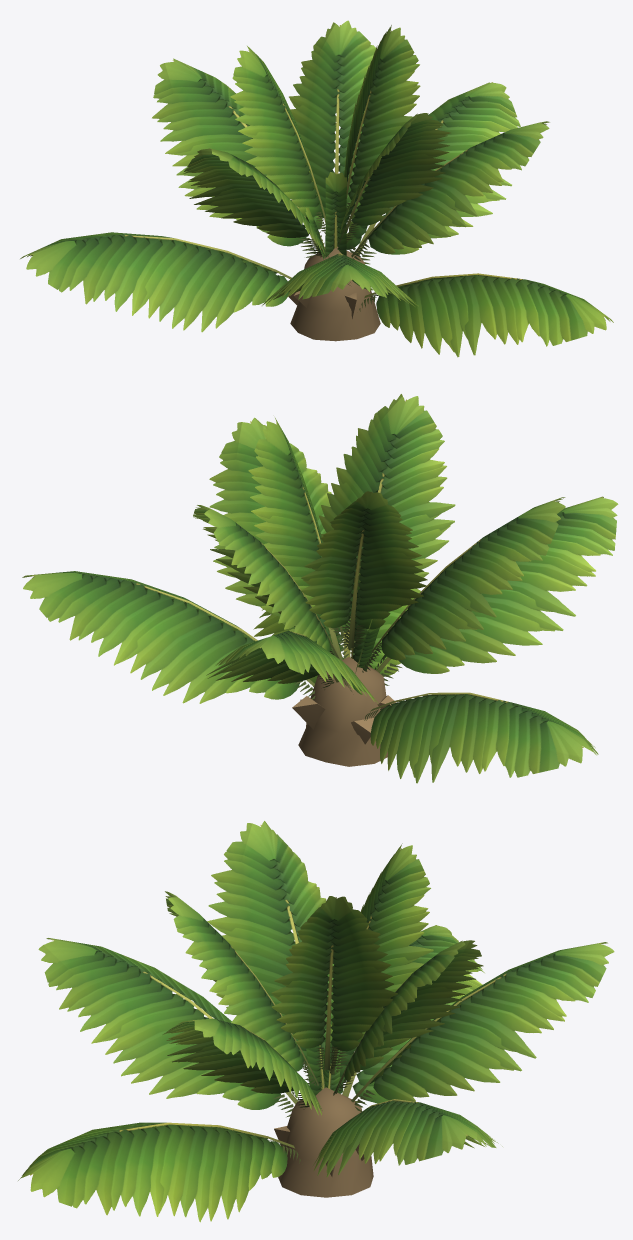
File: sawit_1.glb
3 views of the same model, one above another, from view 1: azimuth 30°, elevation 25°; view 2: azimuth 150°, elevation 25°; view 3: azimuth 270°, elevation 25° (orthographic). The views are drawn at different scales.
Parts seen in each view (by area): view 1: sawit_1_body; view 2: sawit_1_body; view 3: sawit_1_body.
Boxes of the visible parts, left/top/right/bottom form: sawit_1_body: left=20, top=20, right=613, bottom=357; sawit_1_body: left=22, top=394, right=618, bottom=783; sawit_1_body: left=18, top=821, right=614, bottom=1222.
Size of the model in its own units: 2.2 by 1.18 by 2.01.
Materials: 2 (1 with a texture image).
